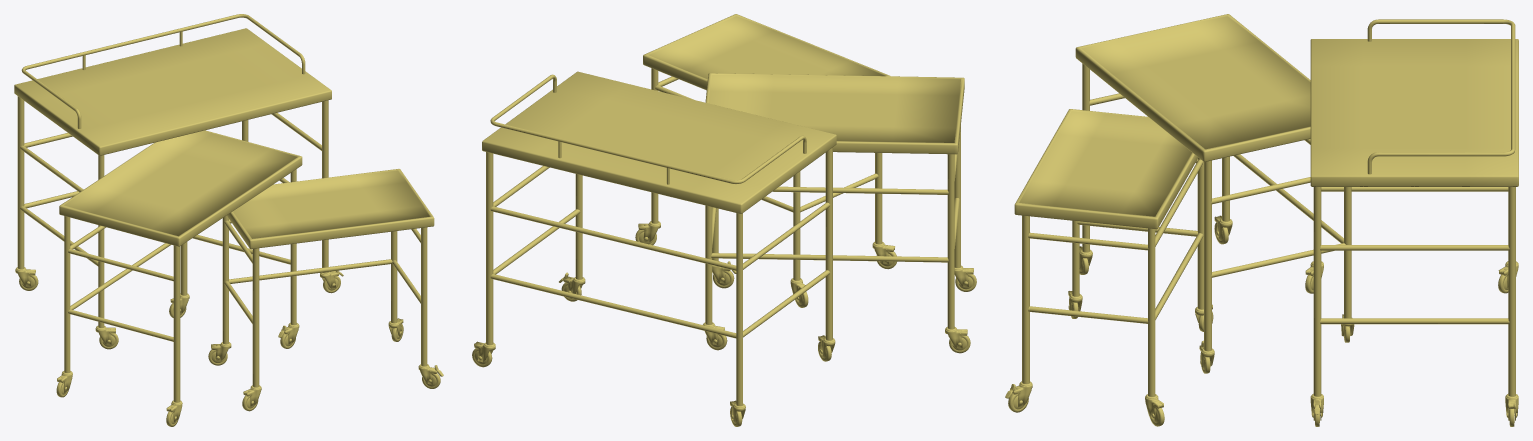
The model's file is main_troly.fbx.
The picture shows the model from 3 angles, left to right: view 1: azimuth 30°, elevation 25°; view 2: azimuth 150°, elevation 25°; view 3: azimuth 270°, elevation 25°; orthographic projection. The views are drawn at different scales.
Parts seen in each view (by area): view 1: main toly; view 2: main toly; view 3: main toly.
Boxes of the visible parts, x1,y1,x2,y2 form: main toly: [14, 14, 443, 426]; main toly: [472, 14, 976, 426]; main toly: [1005, 14, 1518, 426].
Size of what is drawn, in the model's own units: 786 by 510 by 881.
